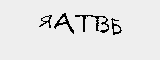А: (51, 12, 75, 34)
Б: (109, 14, 124, 35)
В: (93, 13, 107, 33)
Т: (76, 10, 92, 34)
Я: (37, 12, 53, 32)
